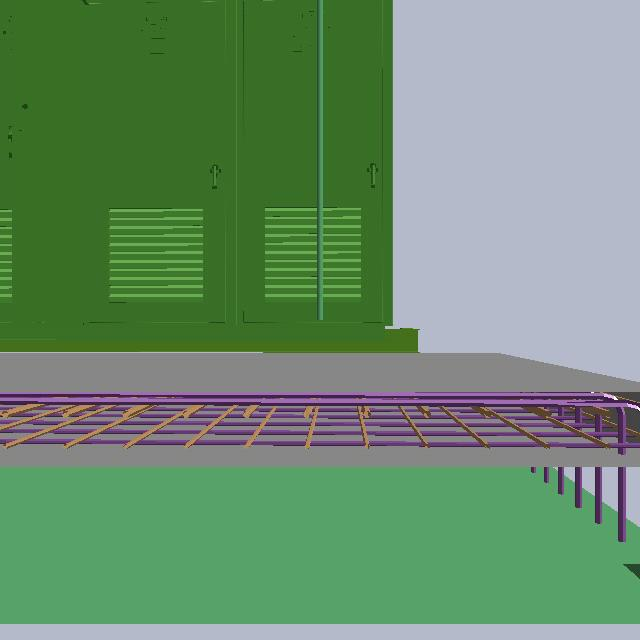Poste: (315, 1, 325, 325)
